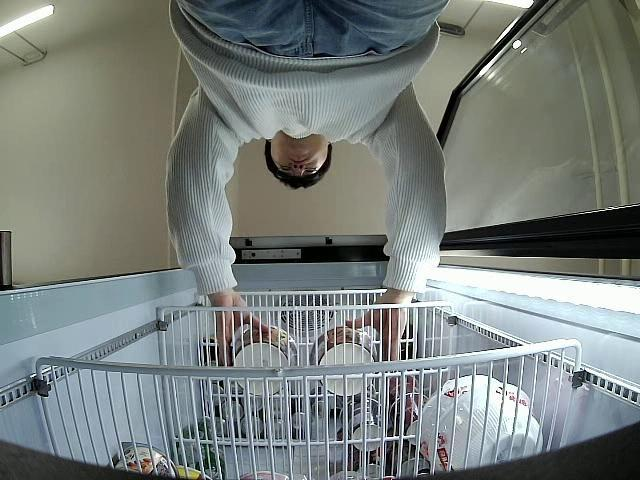05_nuguri_L: (232, 325, 298, 397), (310, 327, 378, 396)
